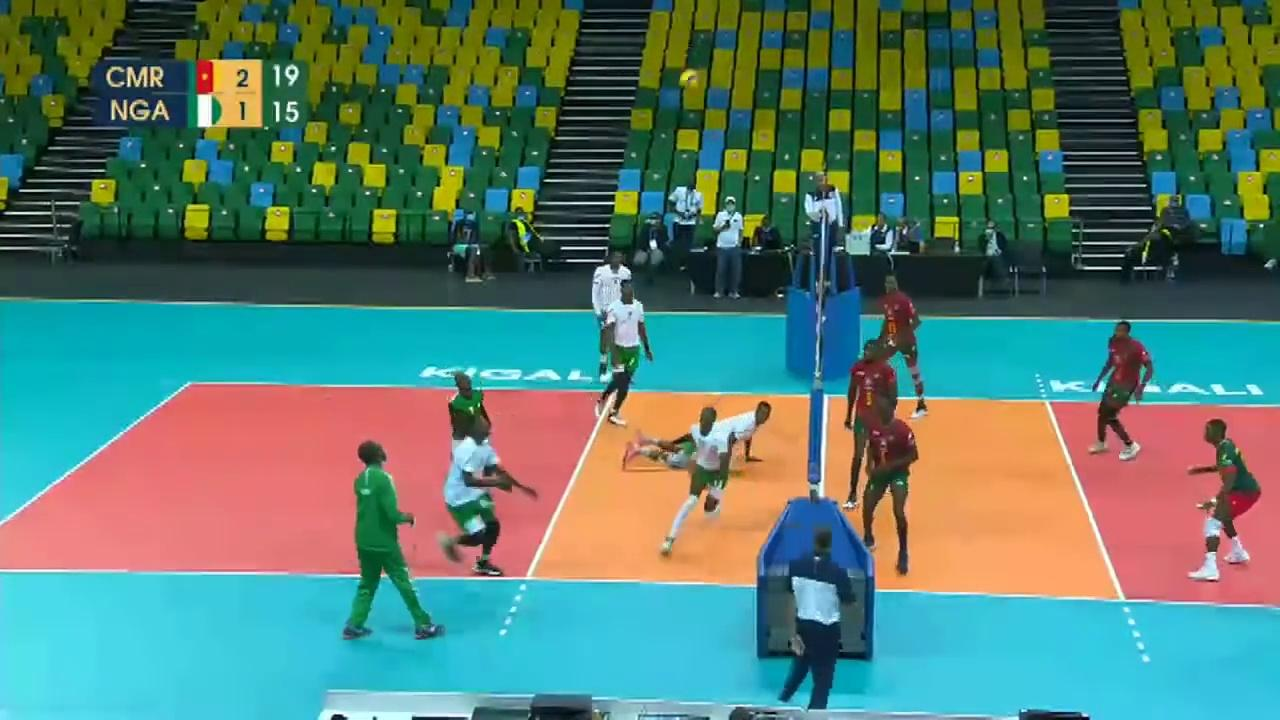player: (440, 416, 536, 586), (1182, 415, 1264, 580), (862, 396, 919, 579), (622, 404, 773, 470), (665, 407, 728, 555), (845, 339, 899, 507), (871, 273, 929, 425), (1090, 323, 1153, 456), (446, 366, 499, 524), (597, 281, 650, 426), (592, 244, 637, 382)
refree: (783, 525, 858, 712), (799, 168, 846, 271)
